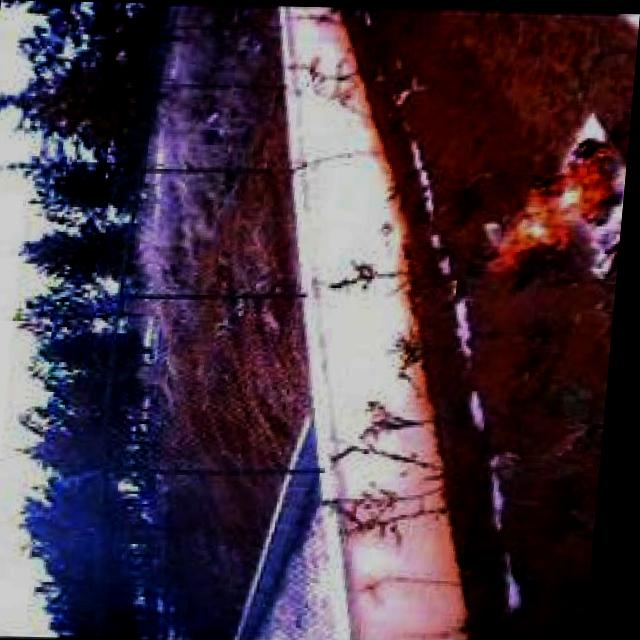Fire: (480, 133, 630, 274)
